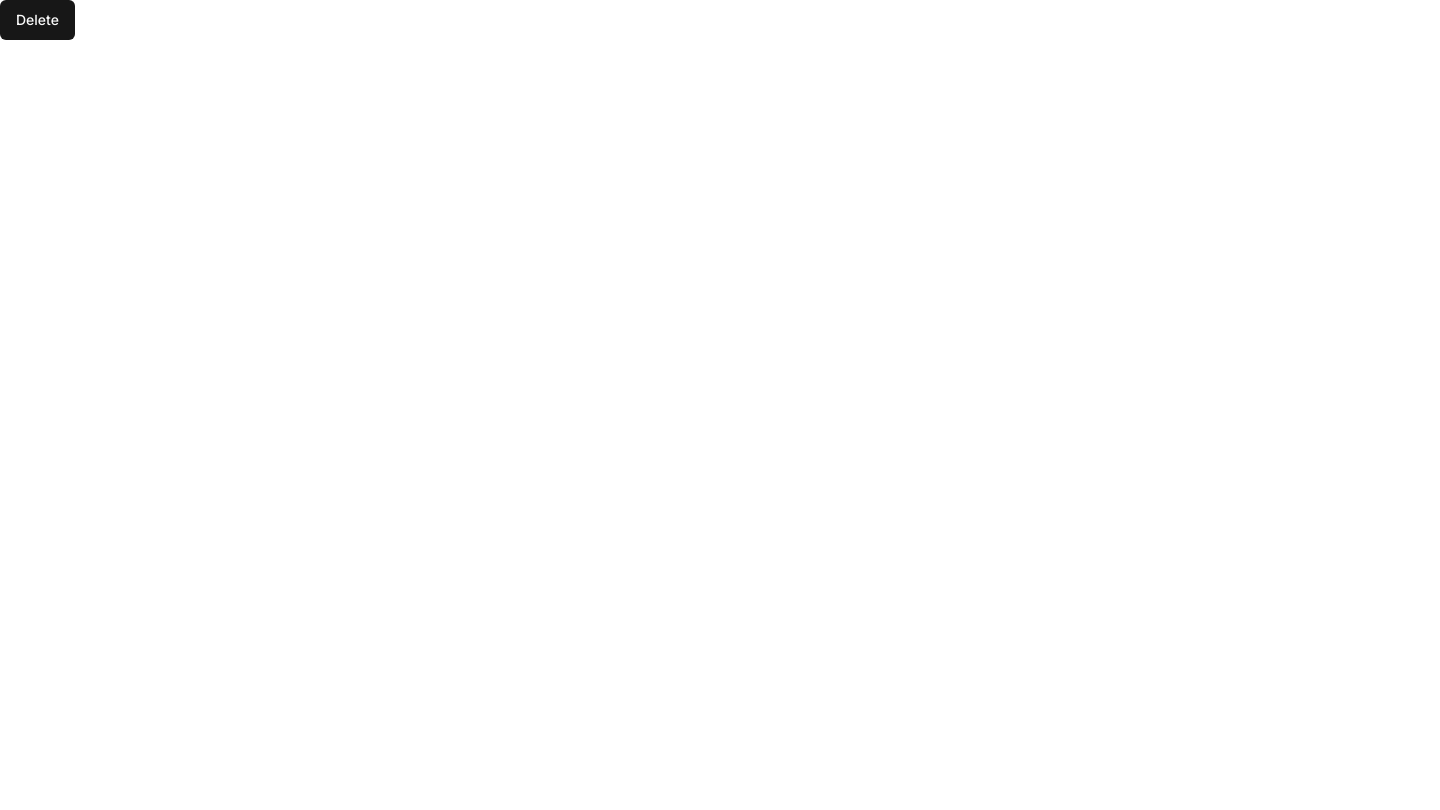
ConfirmationDialog › uses custom button text when provided
Click the button "Delete": [37, 20] box [0,0,75,40]
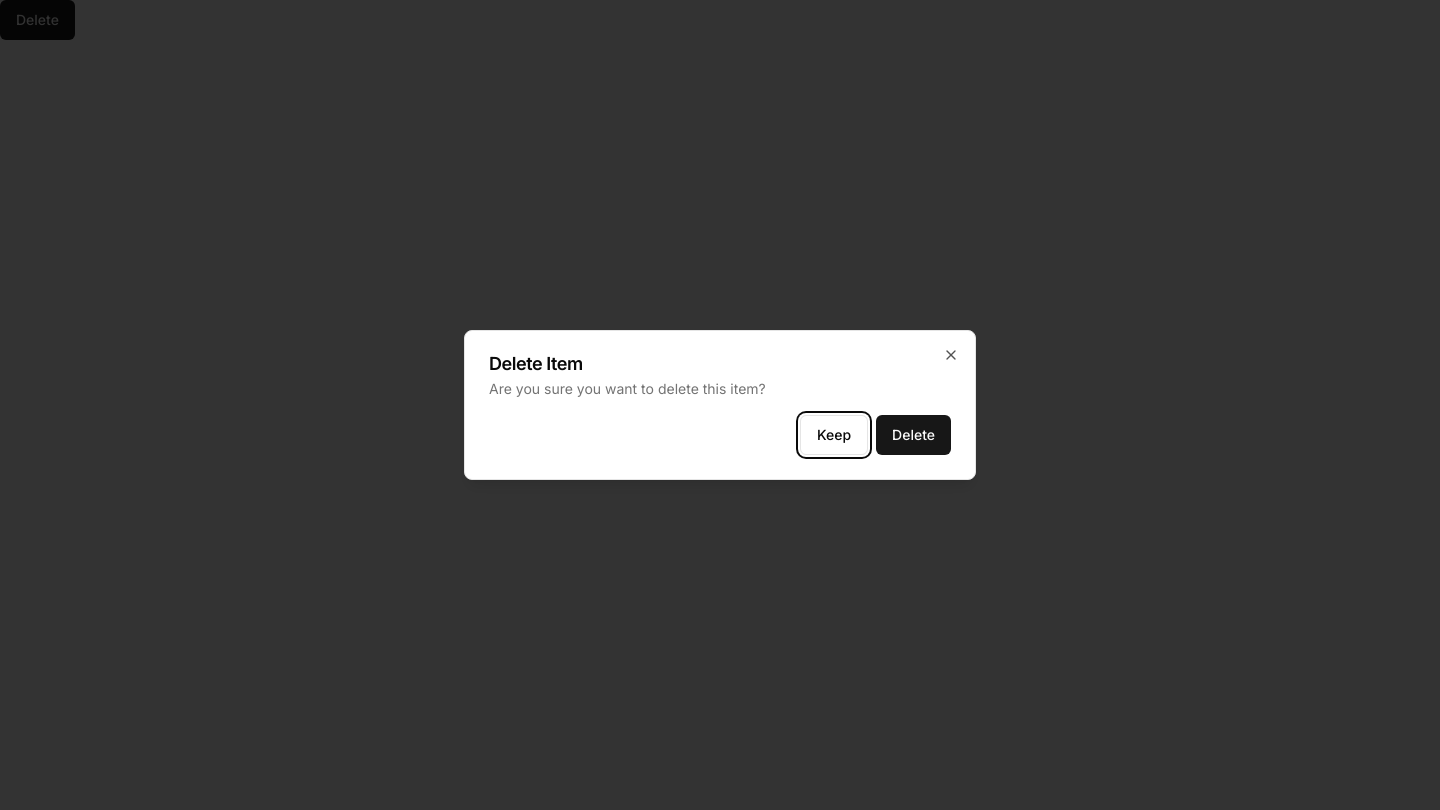
Check: the button "Keep" is shown, box [800,415,868,455]
Check: the button "Delete" is shown, box [876,415,951,455]
